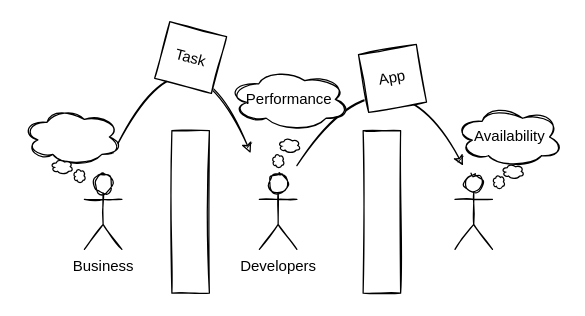
Some shapes in this 585 by 316 pixel diagram are drawn without their labels. The shapes that lost their labels are listed below. From the top down, each one's box as (x1, y1, x2, y2) in pixels, then its label:
(21, 106, 122, 166): Money
(454, 173, 492, 249): Operations
